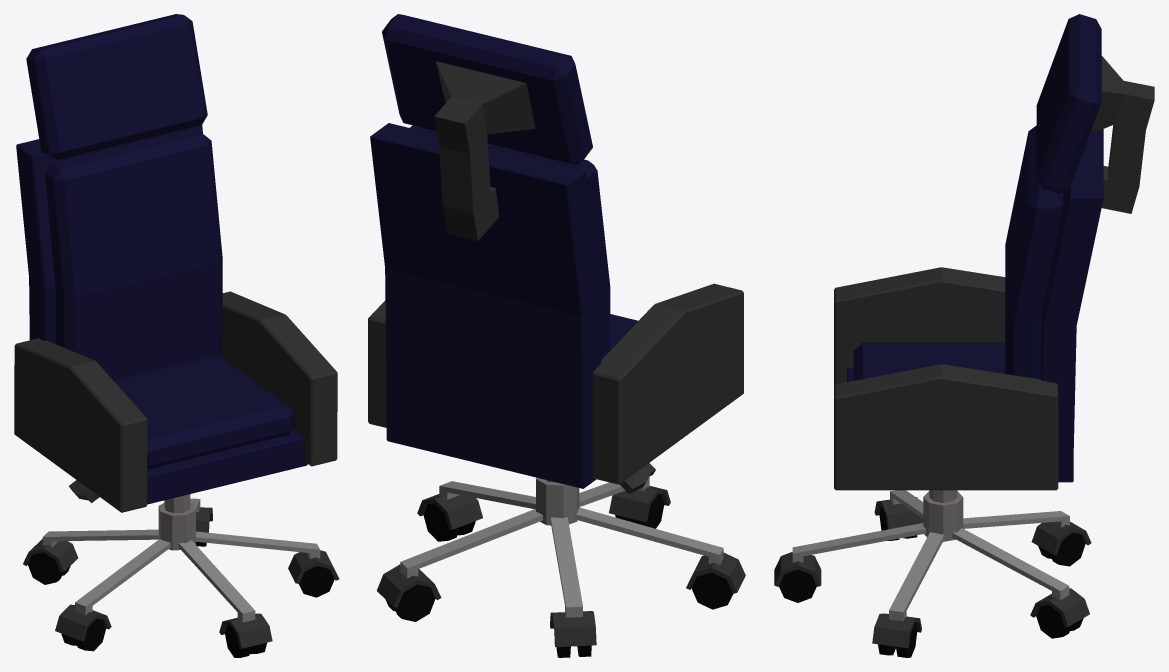
Rendered from Boss Chair.glb.
The picture shows the model from 3 angles, left to right: view 1: azimuth 30°, elevation 25°; view 2: azimuth 150°, elevation 25°; view 3: azimuth 270°, elevation 25°; orthographic projection. The views are drawn at different scales.
Parts seen in each view (by area): view 1: Cube.041, Cube.040, Cube.042, Plane.039, Cube.039, Cube.036, Cylinder.010; view 2: Cube.036, Cube.040, Plane.039, Cube.042, Cube.043, Cube.041, Cylinder.010; view 3: Cube.040, Plane.039, Cube.036, Cube.041, Cube.042, Cube.043, Cube.039, Cylinder.010.
Boxes of the visible parts, x1,y1,x2,y2 form: Cube.041: (45,128,222,380); Cube.040: (14,291,337,512); Cube.042: (26,14,207,159); Plane.039: (23,498,339,657); Cube.039: (114,355,294,469); Cube.036: (16,125,307,504); Cylinder.010: (158,494,195,550); Cube.036: (370,123,601,488); Cube.040: (368,283,743,484); Plane.039: (376,477,745,657); Cube.042: (382,14,592,164); Cube.043: (434,61,535,240); Cube.041: (410,125,610,359); Cylinder.010: (536,477,579,525); Cube.040: (834,267,1058,490); Plane.039: (774,490,1091,657); Cube.036: (847,129,1103,482); Cube.041: (1005,125,1063,379); Cube.042: (1036,14,1101,193); Cube.043: (1090,55,1154,213); Cube.039: (853,342,1005,380); Cylinder.010: (923,490,963,541).
Size of the model in its own units: 1.04 by 1.89 by 1.19.
